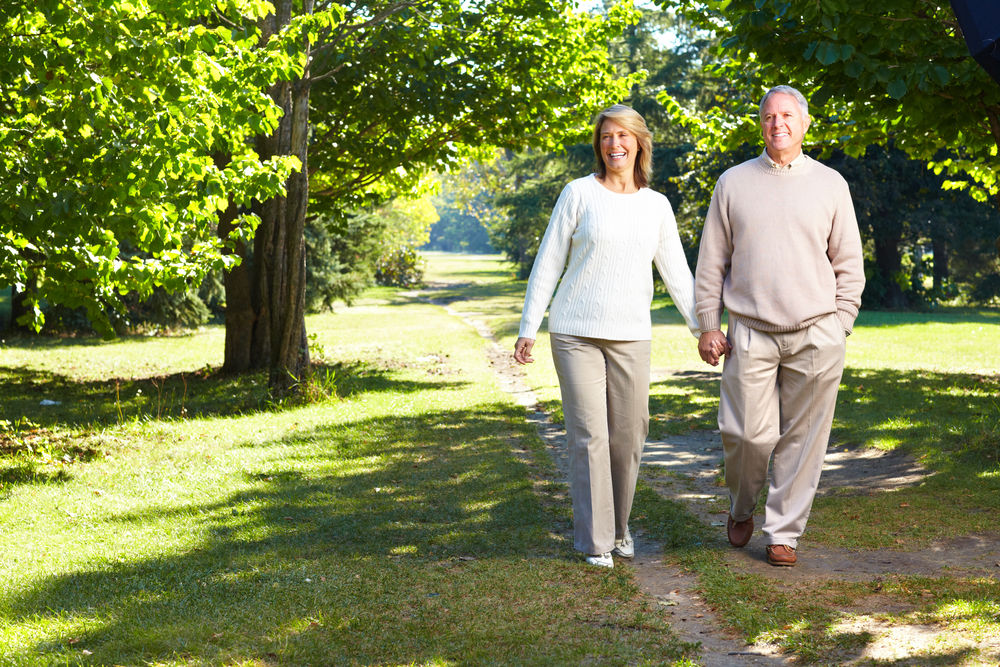Person: (511, 103, 705, 581), (693, 85, 877, 567)
